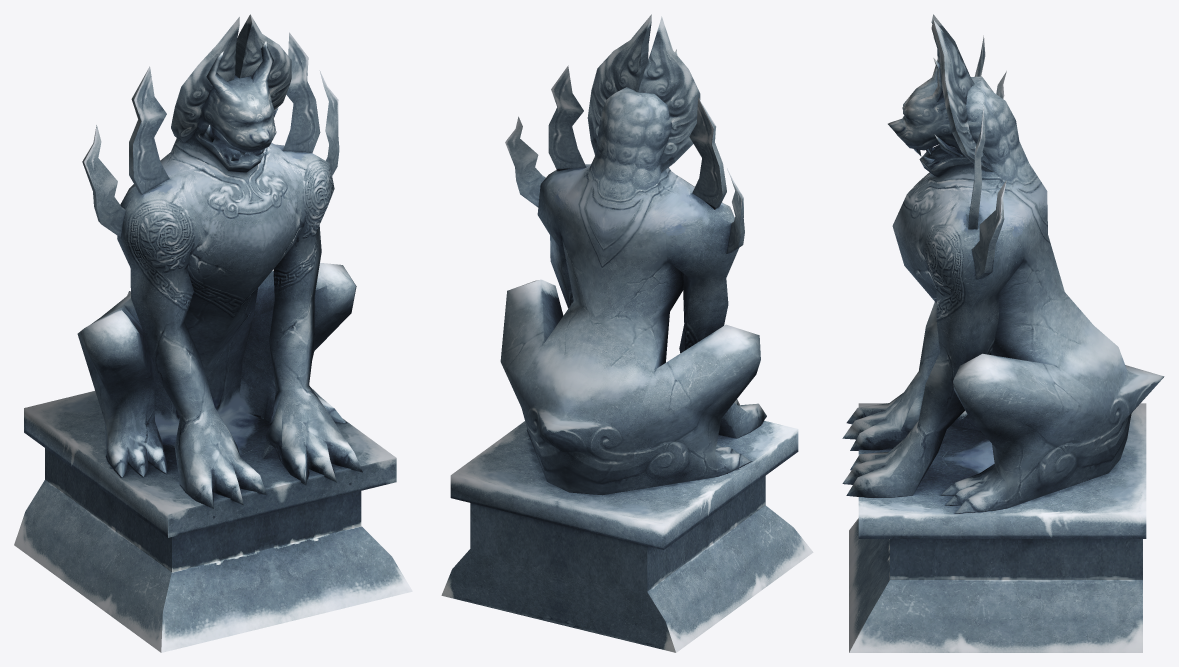
The model's file is BingYingZhong_ShiZi_1.FBX.
3 renders of one model, left to right at view 1: azimuth 30°, elevation 25°; view 2: azimuth 150°, elevation 25°; view 3: azimuth 270°, elevation 25°, orthographic. The views are drawn at different scales.
Parts seen in each view (by area): view 1: BingYingZhong_ShiZi_1; view 2: BingYingZhong_ShiZi_1; view 3: BingYingZhong_ShiZi_1.
Boxes of the visible parts, <box> form: BingYingZhong_ShiZi_1: <box>14,14,412,652</box>; BingYingZhong_ShiZi_1: <box>441,14,813,652</box>; BingYingZhong_ShiZi_1: <box>842,14,1164,652</box>.
Bounding box in the file's own units: 269 × 552 × 281.
